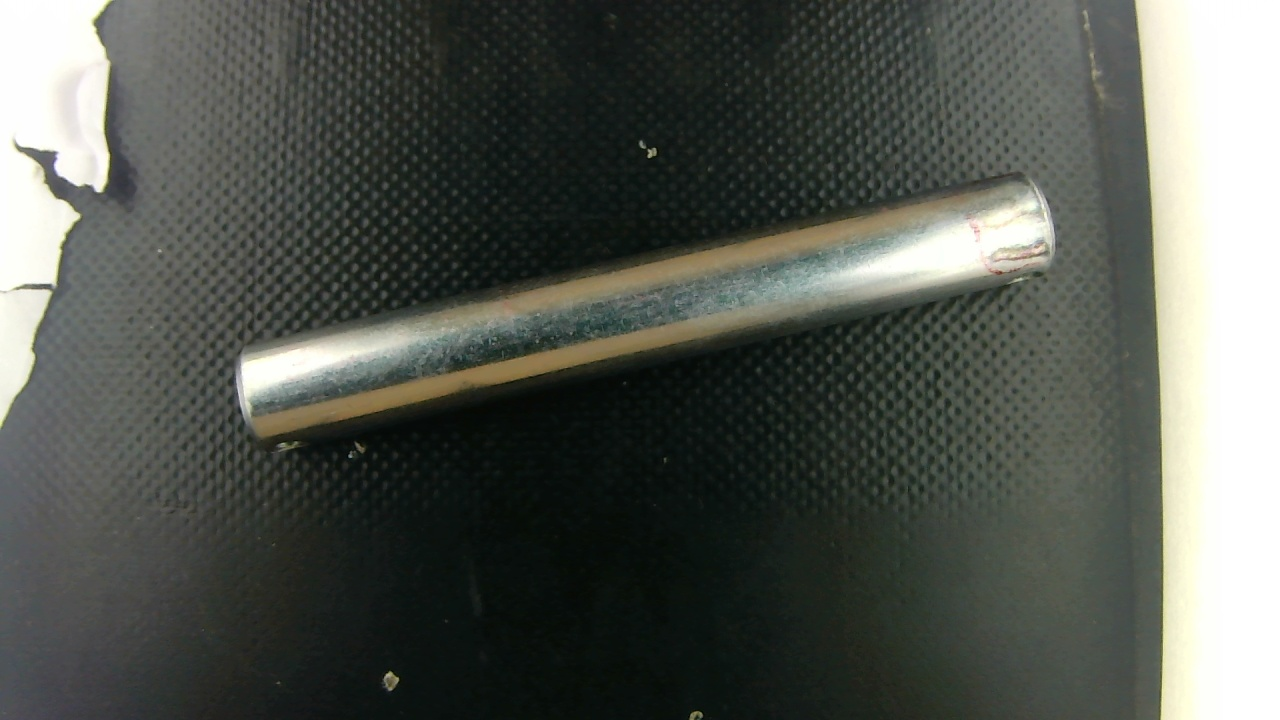black patch_pin: (979, 188, 1047, 234)
